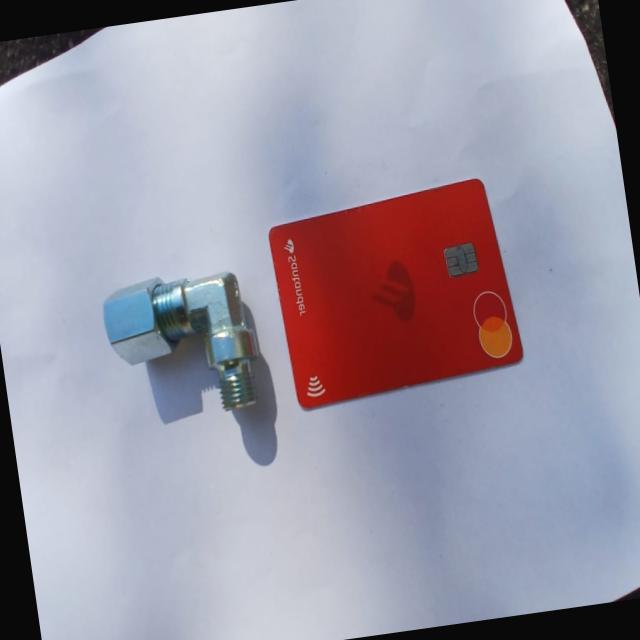rosca_externa: (267, 175, 526, 408), (98, 263, 275, 426), (294, 402, 312, 406)
